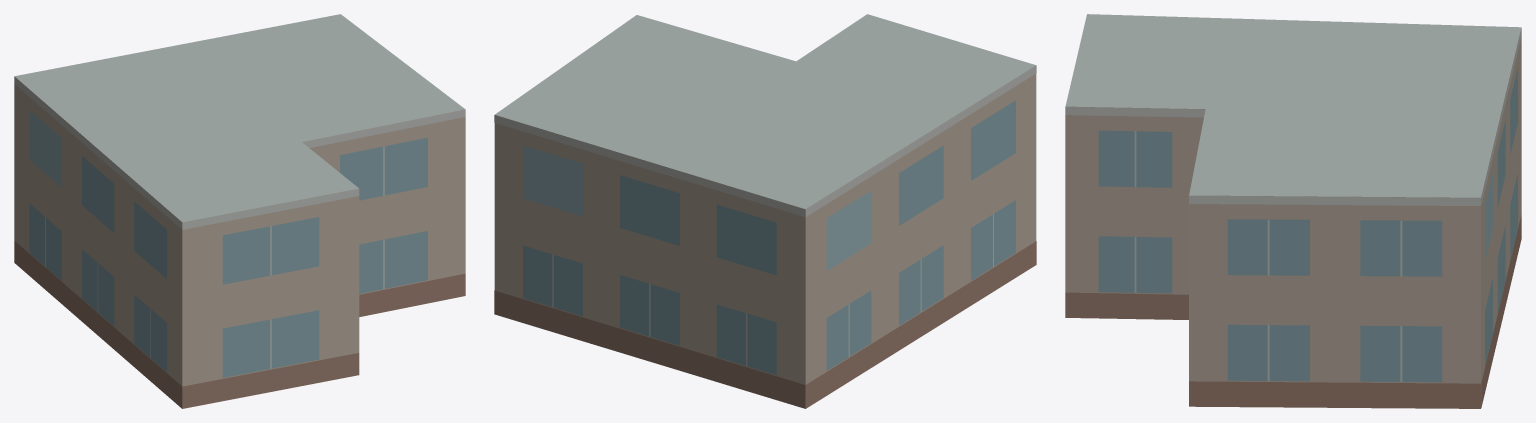
Rendered from survey-upis-32761937.glb.
The picture shows the model from 3 angles, left to right: view 1: azimuth 30°, elevation 25°; view 2: azimuth 150°, elevation 25°; view 3: azimuth 270°, elevation 25°; orthographic projection. The views are drawn at different scales.
Visible parts, largest first — view 1: survey-upis-32761937.tmp; view 2: survey-upis-32761937.tmp; view 3: survey-upis-32761937.tmp.
Part boxes in pixels (x1,y1,x2,y2): survey-upis-32761937.tmp: [14, 14, 465, 408]; survey-upis-32761937.tmp: [494, 14, 1036, 408]; survey-upis-32761937.tmp: [1065, 14, 1521, 408].
Bounding box in the file's own units: 11.39 × 6.1 × 11.95.
